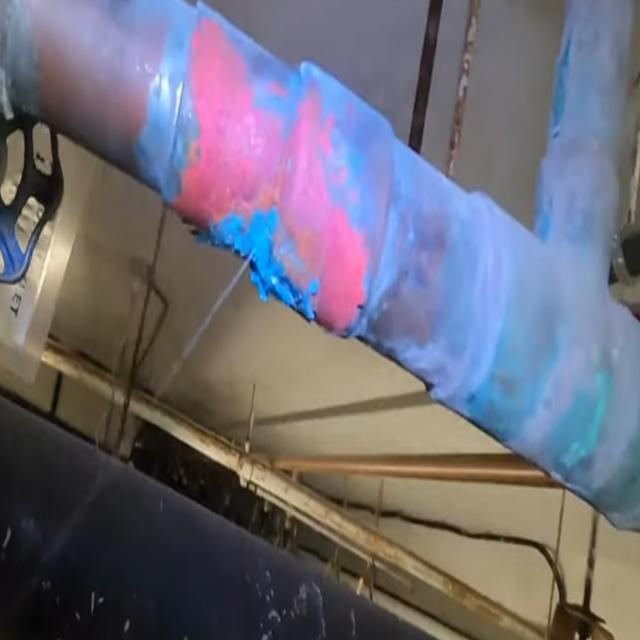leak: (11, 247, 254, 640)
